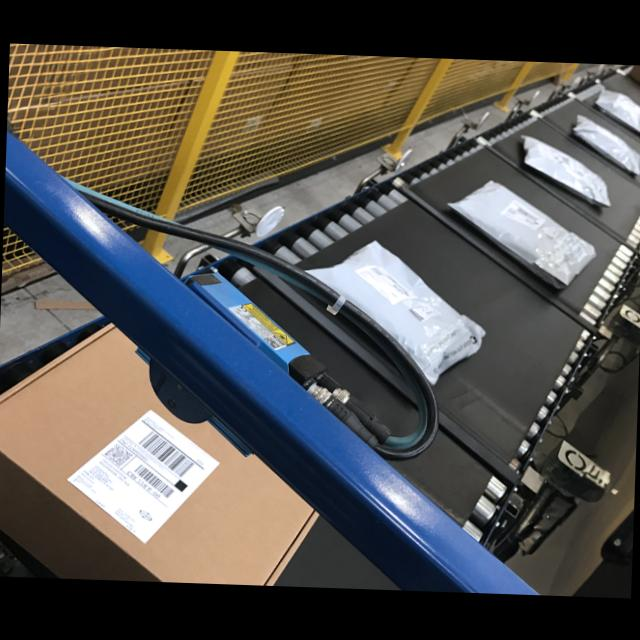box: (0, 314, 339, 586)
mailer: (301, 240, 480, 380), (447, 179, 599, 289), (524, 136, 612, 203), (576, 112, 640, 173), (599, 89, 640, 126)
